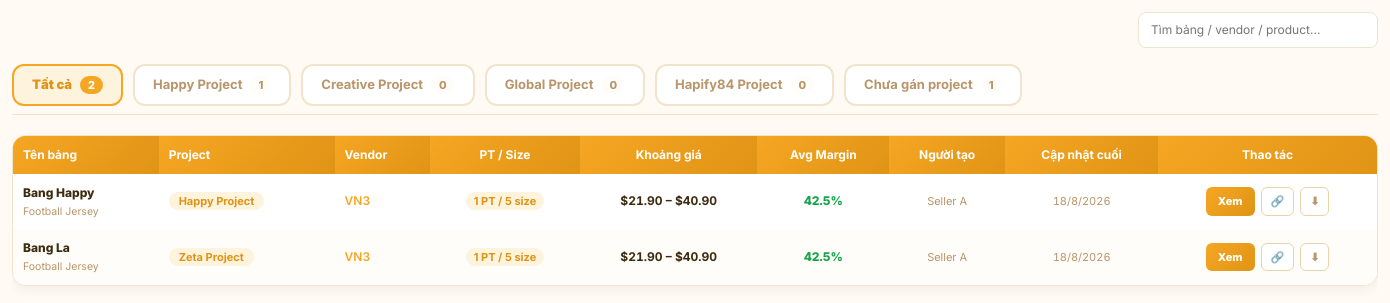
Test case: project lưu dạng nhãn — regression 2026-08 › chip "Chưa gán project" lọc ra đúng những bảng không nhận diện được project
expect the text "Bang Happy" is shown: met, box [23, 184, 94, 200]
Click the button "Chưa gán project 1" at [933, 85], box [844, 64, 1022, 106]
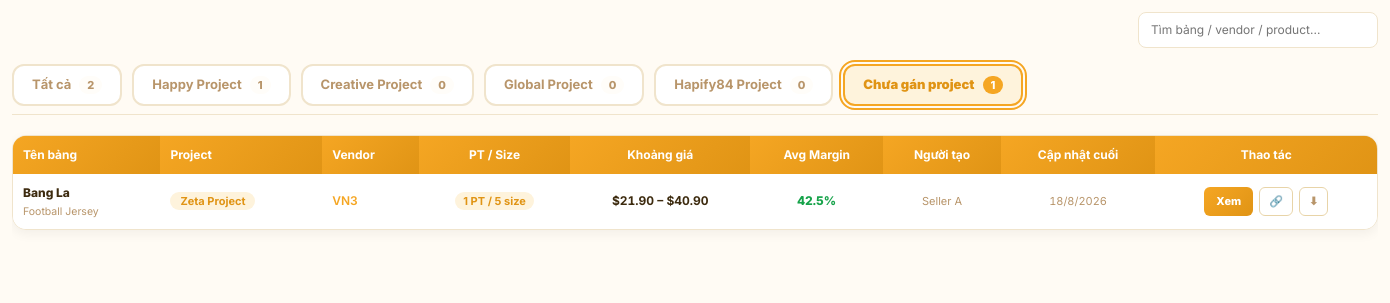
expect the text "Bang La" is shown: met, box [23, 184, 70, 200]
expect the text "Bang Happy" is gone: met
